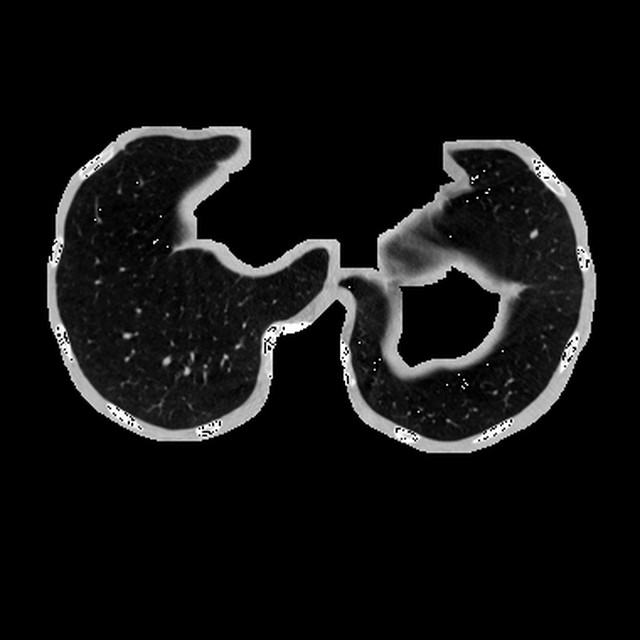PN: (529, 227, 539, 237)
